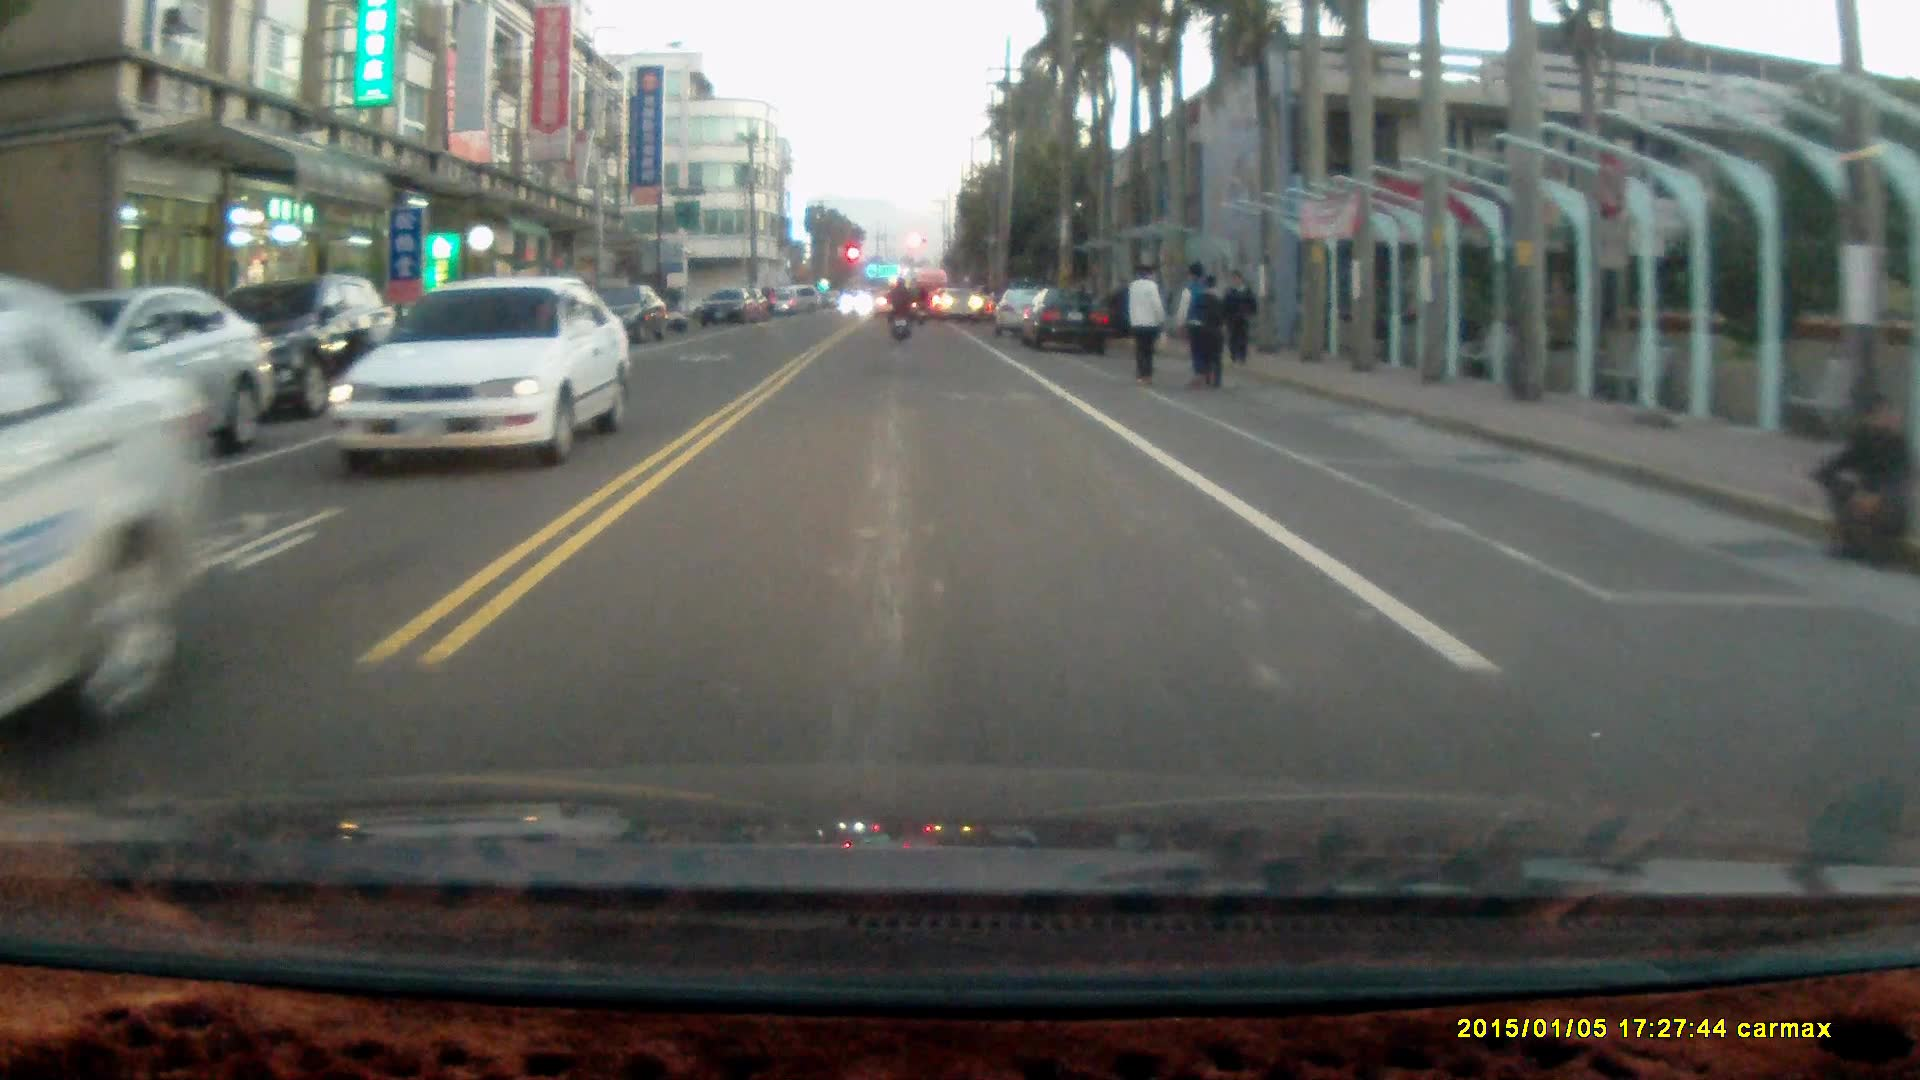pedestrian: (1812, 395, 1912, 576), (1170, 259, 1215, 391), (1124, 259, 1167, 391), (1191, 278, 1231, 398), (1223, 268, 1257, 368)
rider: (884, 274, 915, 346)
vehicle: (1, 310, 205, 764), (326, 278, 630, 462), (156, 278, 400, 420), (568, 282, 672, 344), (1023, 287, 1113, 354), (700, 287, 763, 331)
